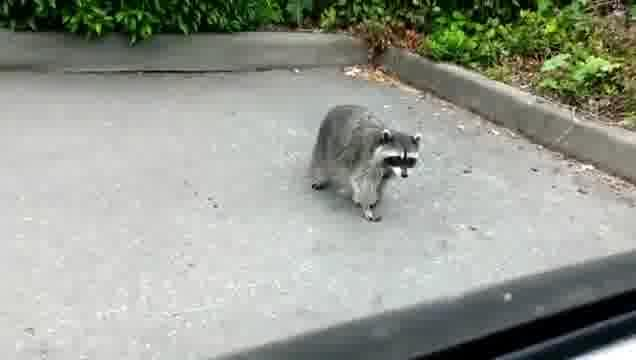raccoon: (306, 102, 424, 224)
